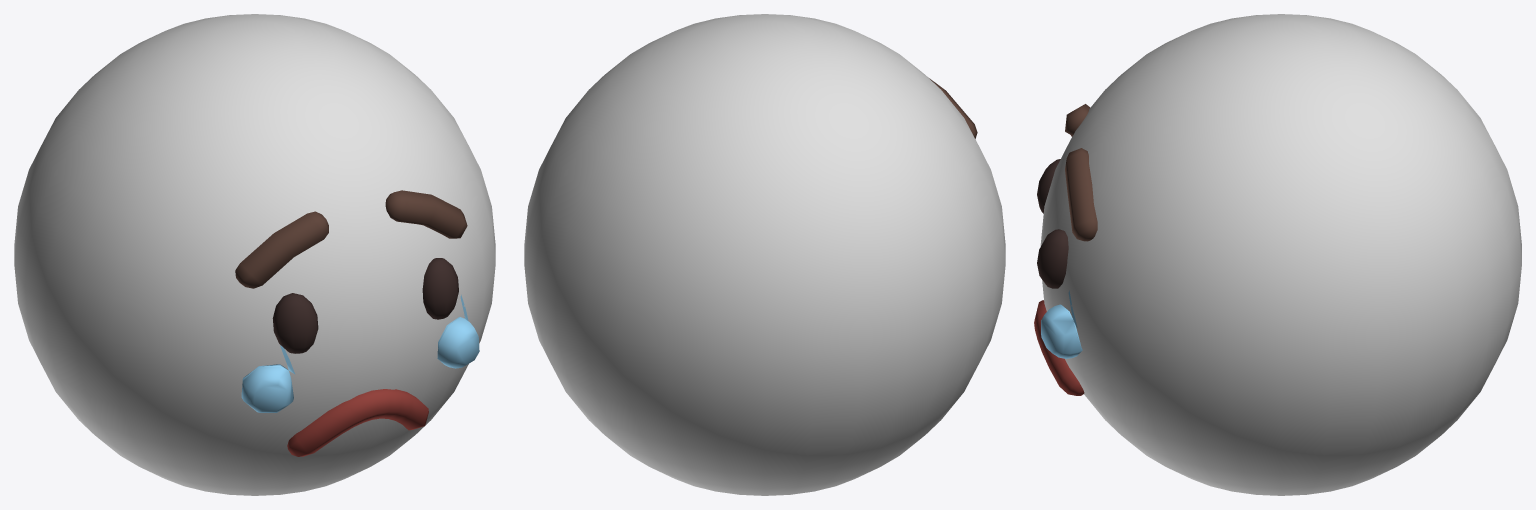
Rendered from face_cry.glb.
The picture shows the model from 3 angles, left to right: view 1: azimuth 30°, elevation 25°; view 2: azimuth 150°, elevation 25°; view 3: azimuth 270°, elevation 25°; orthographic projection.
Visible parts, largest first — view 1: face_cry; view 2: face_cry; view 3: face_cry.
Part boxes in pixels (box(x1,y1,x2,y2)): face_cry: box(14, 14, 495, 495); face_cry: box(524, 14, 1005, 495); face_cry: box(1034, 14, 1521, 495).
Size of the model in its own units: 1 by 1 by 1.01.
